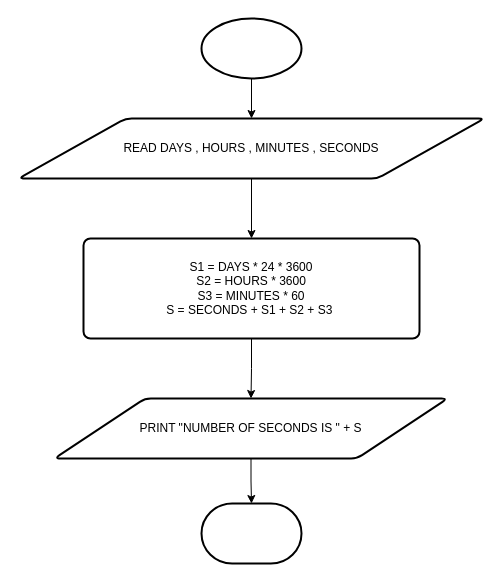
This 502x581 diagram has some shape labels left out. Each missing label, with the centre of its shape:
"END" belongs at pixel 251 533.
"START" belongs at pixel 251 48.
